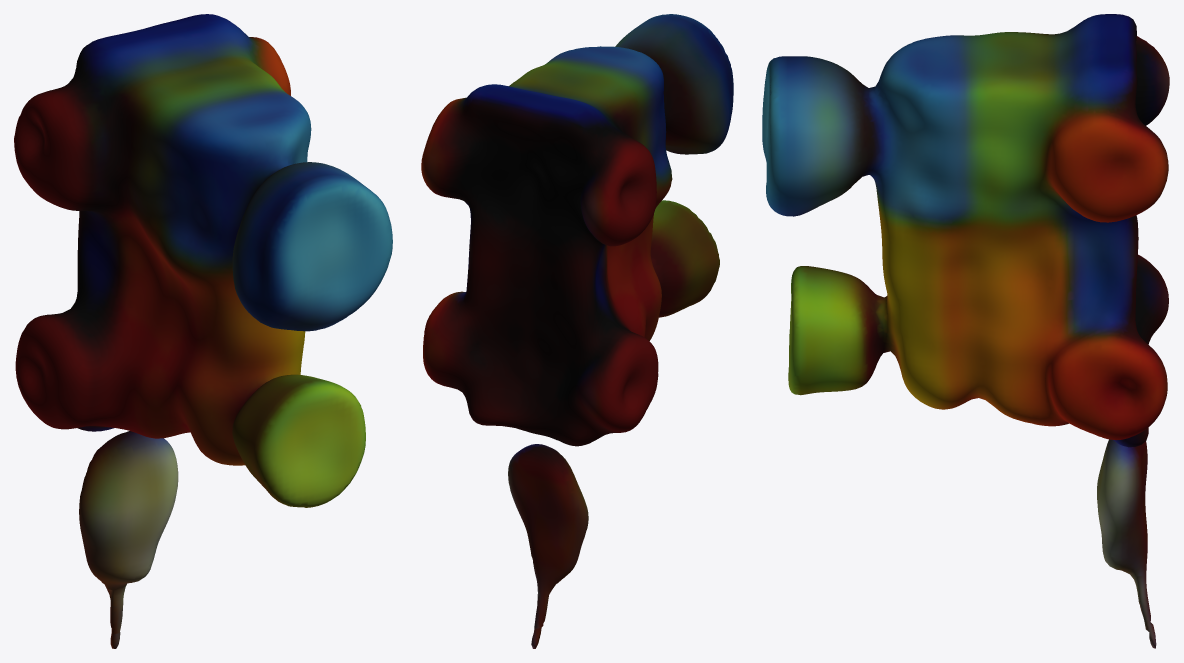
File: train.glb
3 renders of one model, left to right at view 1: azimuth 30°, elevation 25°; view 2: azimuth 150°, elevation 25°; view 3: azimuth 270°, elevation 25°, orthographic. The views are drawn at different scales.
Size of the model in its own units: 0.4053 by 0.9983 by 0.5966.
